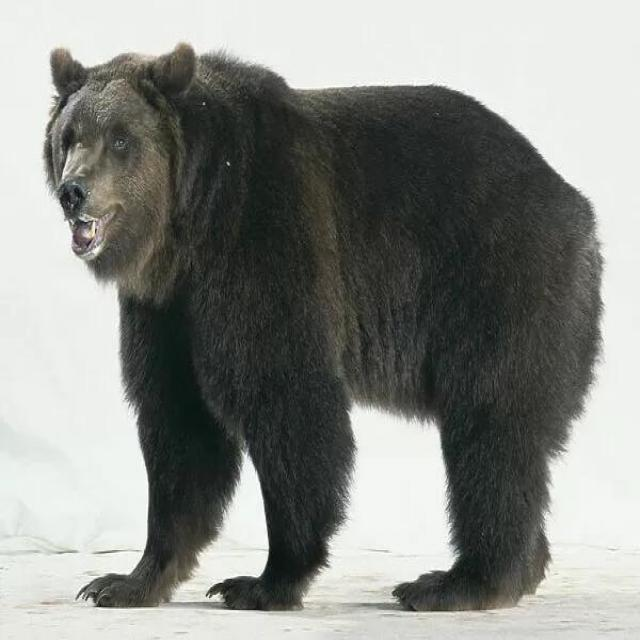Bear: (42, 44, 604, 614)
